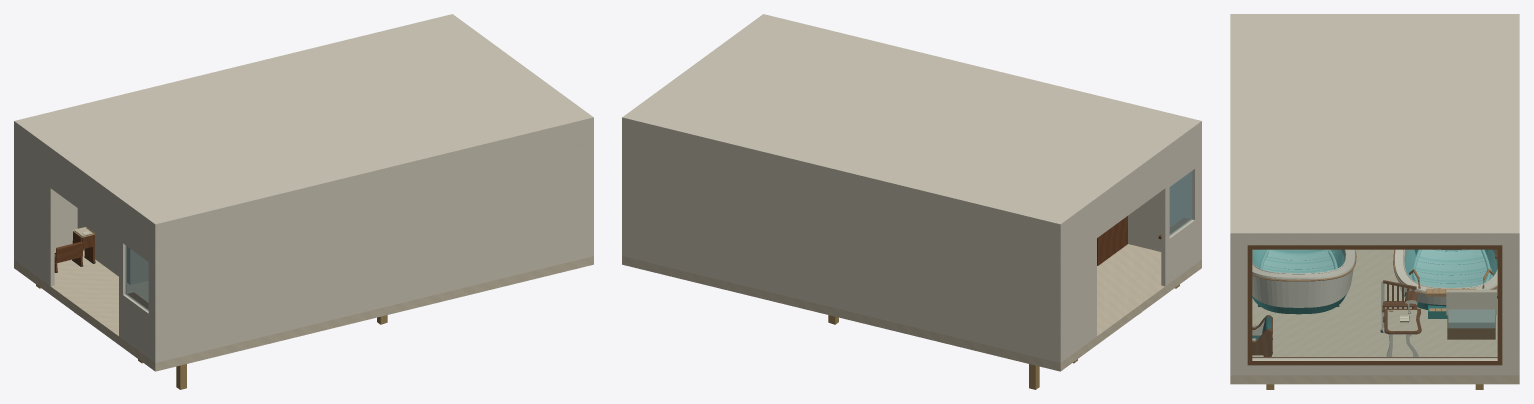
File: NG548_PanoramicSuite_r001.glb
3 views of the same model, side by side, from view 1: azimuth 30°, elevation 25°; view 2: azimuth 150°, elevation 25°; view 3: azimuth 270°, elevation 25° (orthographic). The views are drawn at different scales.
Parts seen in each view (by area): view 1: NG548_RuntimeBatch_001, NG548_RoomFloor, NG548_ScreenedStreetGlass, NG548_RuntimeBatch_013; view 2: NG548_RuntimeBatch_001, NG548_RoomFloor, NG548_ScreenedStreetGlass, NG548_RuntimeBatch_002; view 3: NG548_RuntimeBatch_001, NGP_548_PrivateViewPane, NG548_RoomFloor, NG548_ReservedRestSupport_02__Hollow continuous basin shell , NG548_ReservedRestSupport_01__WaterSurface_VisualOnly, NG548_ReservedRestSupport_01__Contoured broad immersed rest , NG548_ReservedRestSupport_02__WaterSurface_VisualOnly, NG548_ReservedRestSupport_01__Hollow continuous basin shell , NGP_548_Frame_Sill, NG548_ReservedRestSupport_02__Contoured broad immersed rest , NGP_548_Frame_Head, NGP_548_ViewSeat_Back (+9 smaller).
Boxes of the visible parts, box(x1,y1,x2,y2) form: NG548_RuntimeBatch_001: box(14, 14, 593, 362); NG548_RoomFloor: box(14, 250, 593, 371); NG548_ScreenedStreetGlass: box(125, 245, 148, 310); NG548_RuntimeBatch_013: box(54, 231, 95, 271); NG548_RuntimeBatch_001: box(622, 14, 1201, 362); NG548_RoomFloor: box(622, 244, 1201, 371); NG548_ScreenedStreetGlass: box(1169, 171, 1192, 235); NG548_RuntimeBatch_002: box(1097, 216, 1190, 265); NG548_RuntimeBatch_001: box(1230, 14, 1519, 375); NGP_548_PrivateViewPane: box(1252, 250, 1497, 358); NG548_RoomFloor: box(1230, 249, 1519, 384); NG548_ReservedRestSupport_02__Hollow continuous basin shell : box(1252, 249, 1355, 314); NG548_ReservedRestSupport_01__WaterSurface_VisualOnly: box(1406, 250, 1496, 287); NG548_ReservedRestSupport_01__Contoured broad immersed rest : box(1412, 249, 1490, 287); NG548_ReservedRestSupport_02__WaterSurface_VisualOnly: box(1253, 250, 1343, 272); NG548_ReservedRestSupport_01__Hollow continuous basin shell : box(1394, 249, 1497, 309); NGP_548_Frame_Sill: box(1247, 357, 1502, 365); NG548_ReservedRestSupport_02__Contoured broad immersed rest : box(1263, 249, 1334, 273); NGP_548_Frame_Head: box(1247, 245, 1502, 249); NGP_548_ViewSeat_Back: box(1446, 289, 1496, 315).
Bounding box in the file's own units: 12.9 × 5.31 × 7.2.
83 materials, 49 textured.
